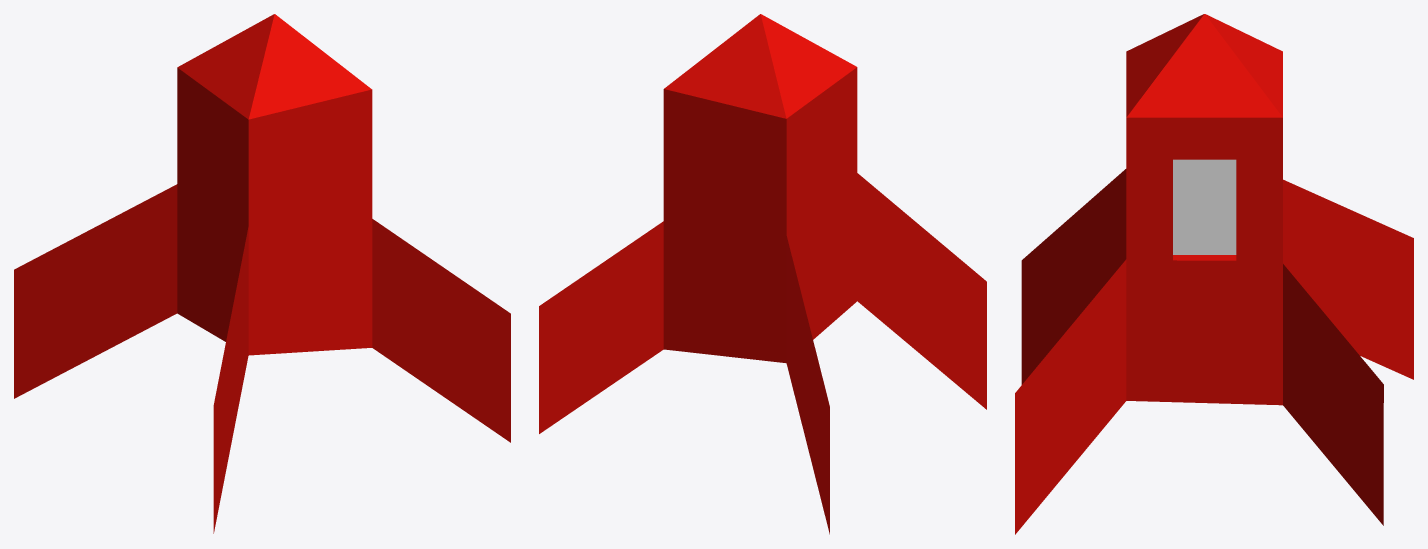
3 views of the same model, side by side, from view 1: azimuth 30°, elevation 25°; view 2: azimuth 150°, elevation 25°; view 3: azimuth 270°, elevation 25° (orthographic). The views are drawn at different scales.
Parts seen in each view (by area): view 1: Cube; view 2: Cube; view 3: Cube.
Part boxes in pixels (x1=…): Cube: x1=14, y1=14, x2=510, y2=533; Cube: x1=539, y1=14, x2=986, y2=534; Cube: x1=1015, y1=14, x2=1413, y2=534.
Size of the model in its own units: 510 by 656 by 510.
